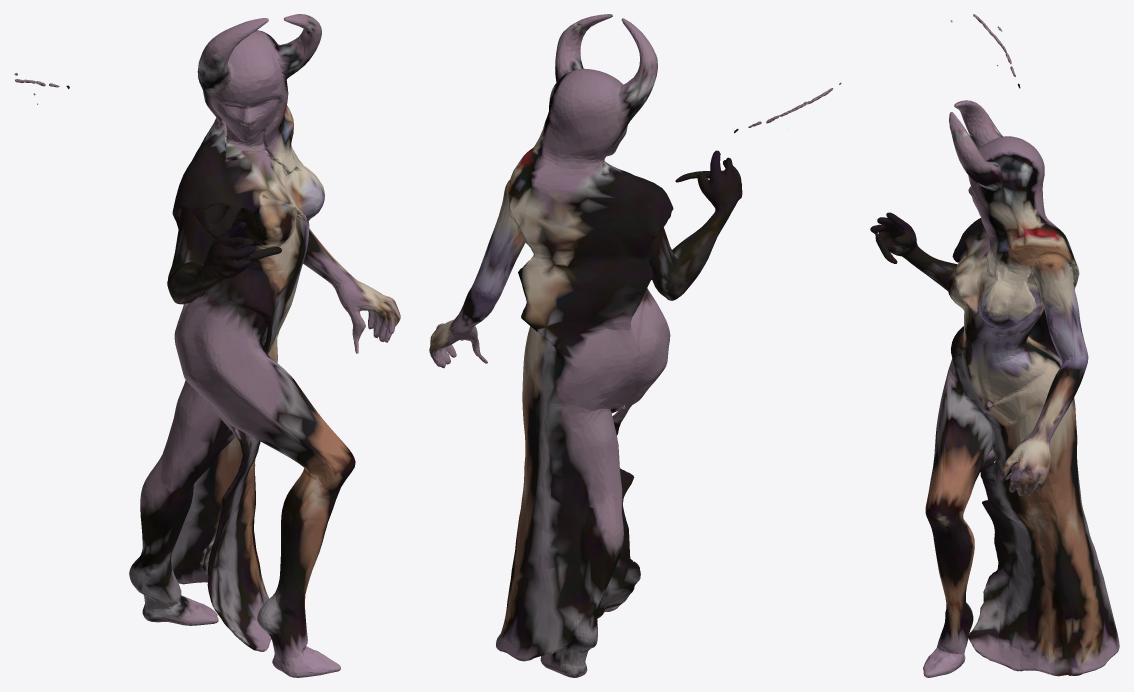
Rendered from wyvern.glb.
3 views of the same model, side by side, from view 1: azimuth 30°, elevation 25°; view 2: azimuth 150°, elevation 25°; view 3: azimuth 270°, elevation 25° (orthographic). The views are drawn at different scales.
Visible parts, largest first — view 1: world; view 2: world; view 3: world.
Boxes of the visible parts, <box> form: world: <box>14,14,400,677</box>; world: <box>429,14,841,677</box>; world: <box>870,14,1119,677</box>.
Bounding box in the file's own units: 0.6543 × 1 × 0.4101.
